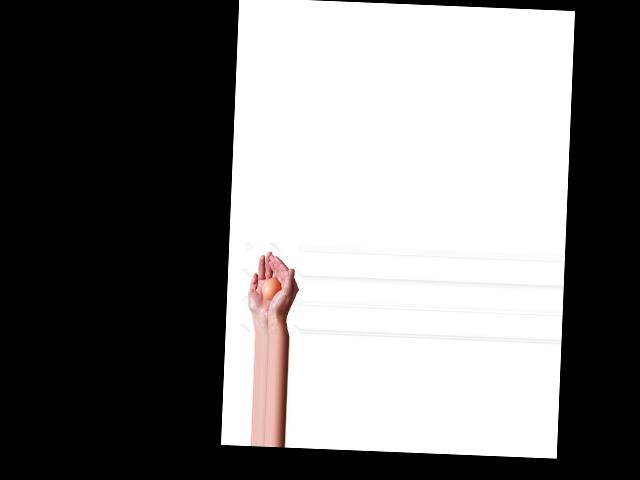egg: (263, 277, 281, 299)
